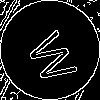W: (25, 25, 87, 88)
